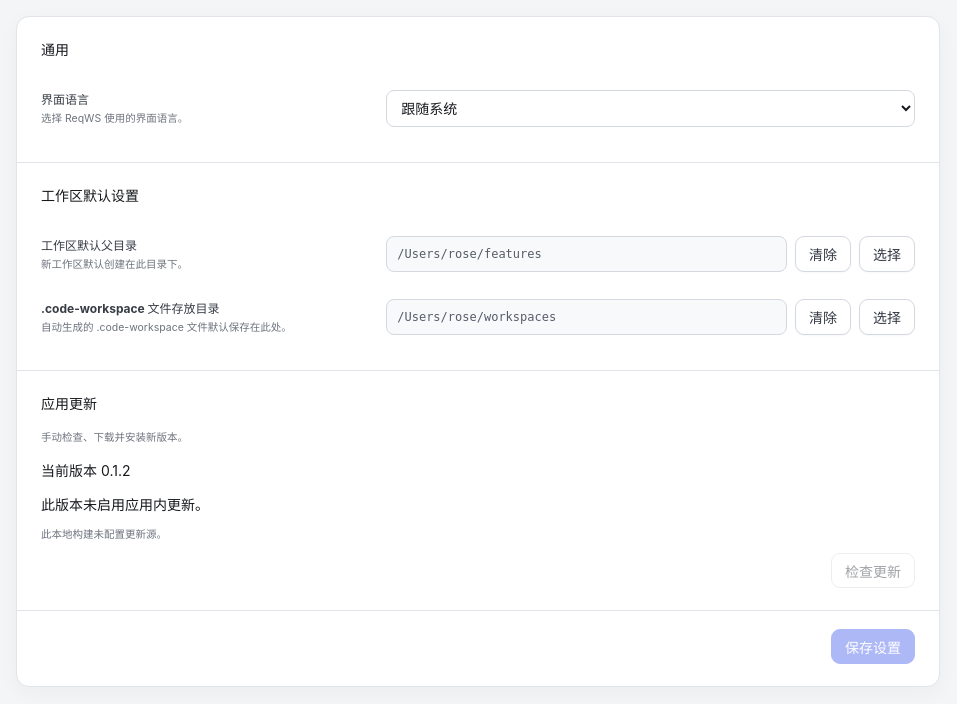
Settings page › uses the directory picker without making the path field editable
What coordinates should you click on to do the following:
click the button with aria-label "为“工作区默认父目录”选择目录"
I would click on:
 (887, 254)
Its box is [859,236,915,272].
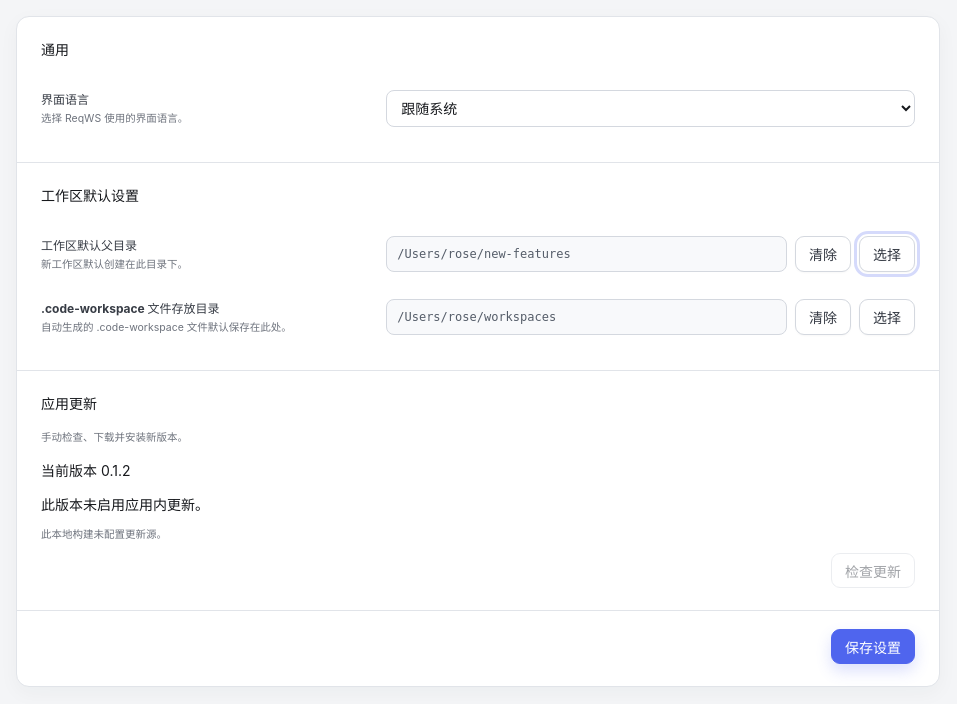
Expected: the field labelled "工作区默认父目录" holds "/Users/rose/new-features", [386,236,787,272]
Expected: the button "保存设置" is enabled, [831,629,915,664]
